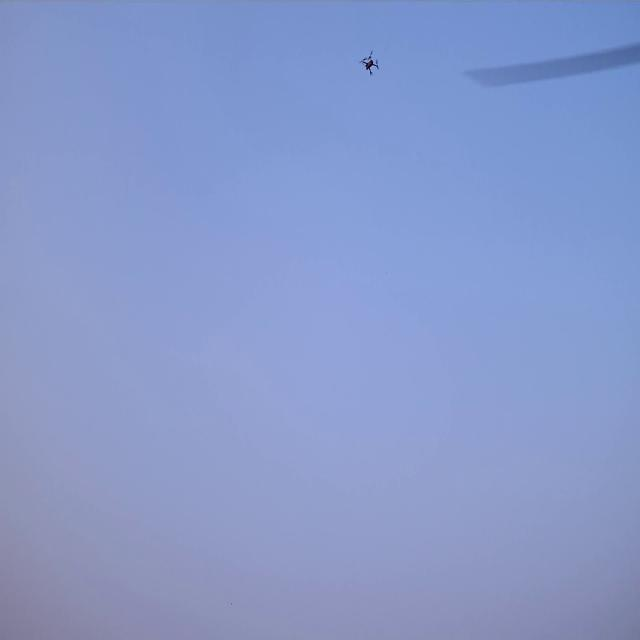UAV: (360, 50, 380, 76)
